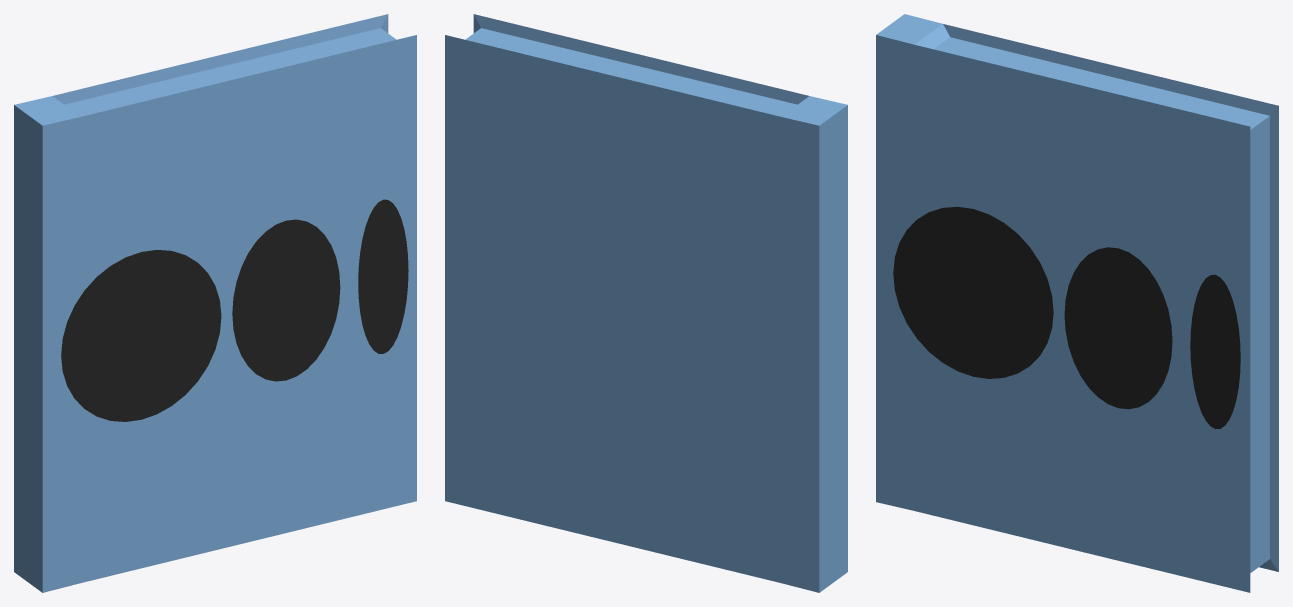
File: menu_blog.glb
3 renders of one model, left to right at view 1: azimuth 30°, elevation 25°; view 2: azimuth 150°, elevation 25°; view 3: azimuth 330°, elevation 25°, orthographic.
Parts seen in each view (by area): view 1: Cube.002; view 2: Cube.002; view 3: Cube.002.
Boxes of the visible parts, x1,y1,x2,y2 form: Cube.002: (14,14,416,592); Cube.002: (445,14,847,592); Cube.002: (876,14,1278,592).
Bounding box in the file's own units: 0.4502 × 0.5369 × 0.0608.
